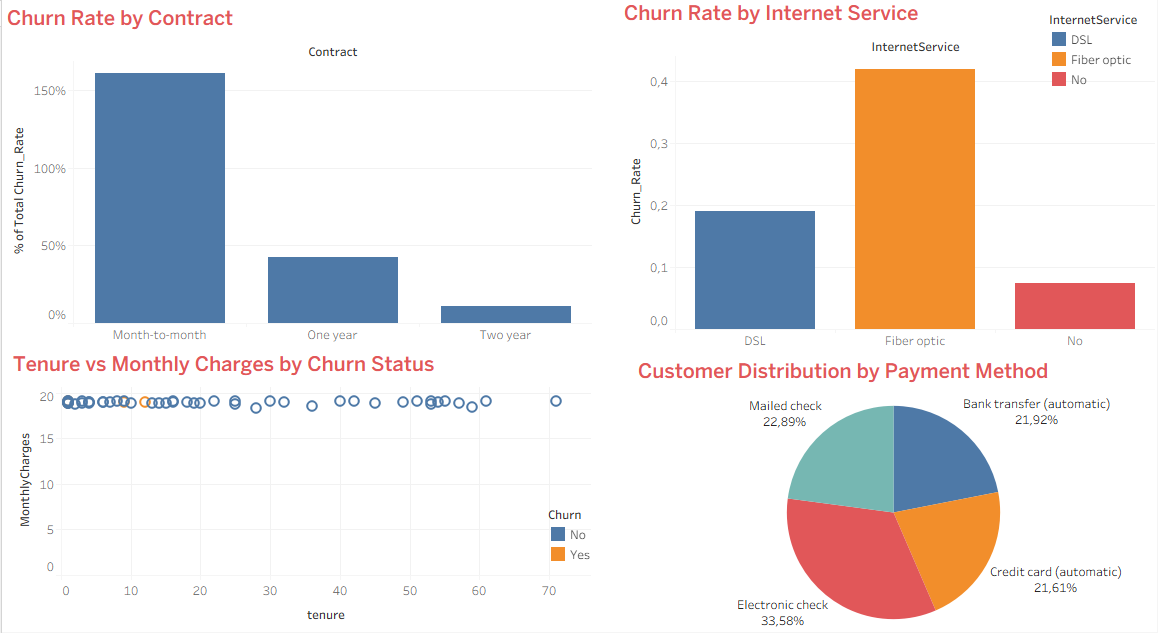

The dashboard page shown, as its layout file describes it:
{"tool":"tableau","page":{"name":"Dashboard 1","canvas":[1000,1000],"units":"permille","ordinal":0},"visuals":[{"type":"worksheet","title":"Sheet 1","mark":"Automatic","cols":["Contract"],"box":[0.9,3.2,510,541.1]},{"type":"worksheet","title":"Sheet 2","mark":"Automatic","rows":["MonthlyCharges"],"cols":["tenure"],"box":[6.1,550.6,503.9,446.2]},{"type":"worksheet","title":"Sheet 4","mark":"Pie","box":[547.2,561.7,449.4,436.7]},{"type":"legend","title":"Sheet 2","param":"[federated.1iwo5cp0qrvtrn17fh6s31jcf1c7].[none:Churn:nk]","box":[472.7,800.6,62.3,98.1]}]}

Visuals, with their boxes on the dashboard's canvas, which has no fixed pixel size, in thousandths of its width and height (x1, y1, x2, y2). These are canvas units, not pixel positions in the 1158x633 screenshot, which may show the page scaled, cropped or inside an application window:
"Sheet 1" worksheet: {"left": 1, "top": 3, "right": 511, "bottom": 544}
"Sheet 2" worksheet: {"left": 6, "top": 551, "right": 510, "bottom": 997}
"Sheet 4" worksheet (Pie marks): {"left": 547, "top": 562, "right": 997, "bottom": 998}
"Sheet 2" legend: {"left": 473, "top": 801, "right": 535, "bottom": 899}
